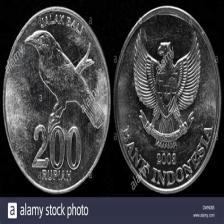coin_200_e2003: (0, 6, 113, 194), (111, 5, 221, 196)
